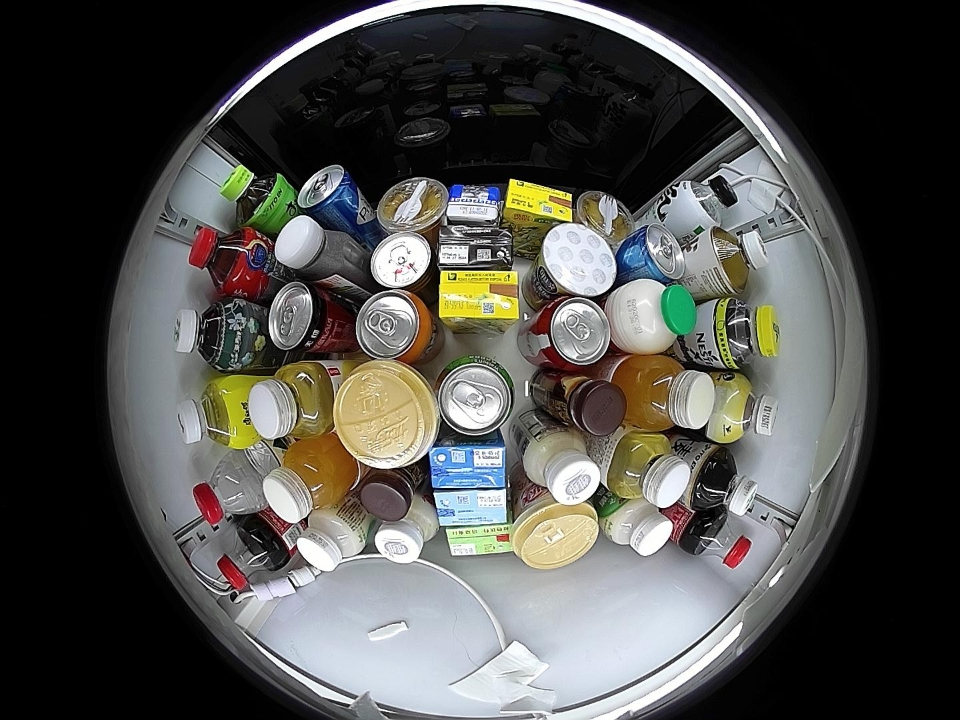anmuxi: (446, 183, 504, 228)
asamu: (712, 374, 778, 442)
binghongcha: (189, 226, 259, 295)
bingtangxueli: (176, 375, 251, 450)
chacui: (712, 299, 780, 369)
chapai2: (246, 360, 335, 442), (606, 431, 691, 508)
damaicha: (690, 448, 759, 516)
fenda: (354, 289, 435, 362)
hongniu2: (369, 232, 435, 291)
kebike: (537, 223, 617, 297)
kele: (538, 297, 610, 368)
kele-b: (217, 521, 281, 594), (687, 511, 753, 570)
lingdukele: (266, 280, 337, 356)
liziyuan: (611, 278, 697, 355)
lujikafei: (545, 370, 625, 436), (357, 465, 420, 519)
moliqingcha: (172, 299, 247, 373)
nongfushanquan: (192, 454, 264, 526)
qingdaowangzi-2: (297, 165, 364, 224), (621, 226, 686, 283)
quchenshixiangcao: (435, 356, 515, 435)
rancha-2: (703, 226, 768, 294)
wanglaoji: (445, 523, 511, 557)
weic: (614, 355, 715, 432), (262, 439, 352, 522)
weitanai: (429, 436, 507, 490)
weitanai2: (436, 225, 514, 270)
weitanaiditang: (433, 486, 508, 528)
weitaningmeng: (437, 268, 521, 325), (502, 179, 573, 226)
weiweidounai: (522, 427, 601, 505), (375, 499, 440, 564)
xianguolao: (377, 176, 449, 233), (577, 190, 638, 242)
yitengyuan: (219, 164, 286, 227)
youlemei: (333, 360, 437, 468), (512, 496, 600, 570)
yousuanru: (294, 506, 370, 573), (600, 495, 674, 556)
youyanggudong: (274, 214, 357, 285)
yuanqishui: (668, 175, 737, 238)
